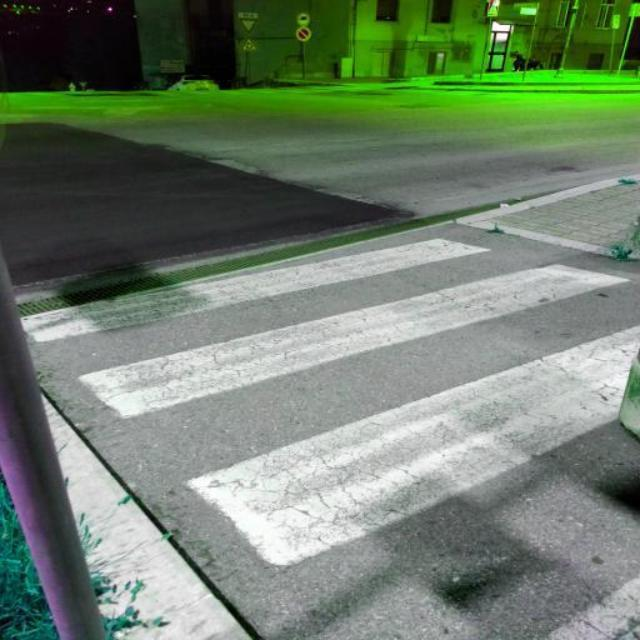sidewalk: (20, 238, 640, 575)
